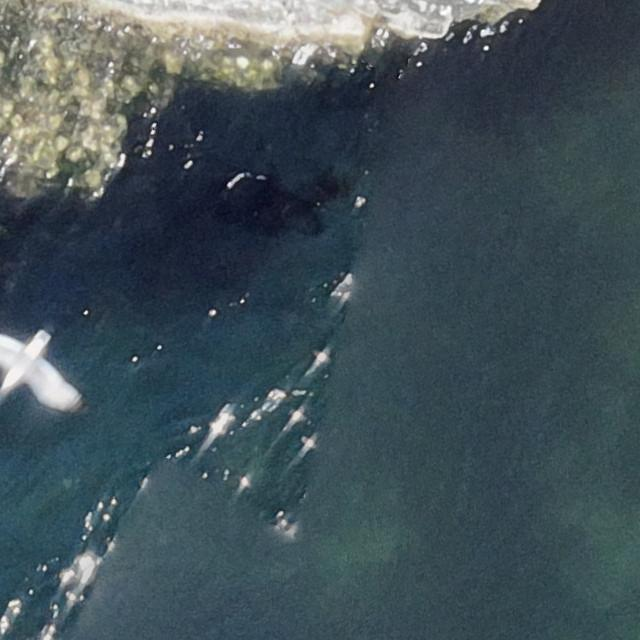F: (1, 331, 85, 413)
